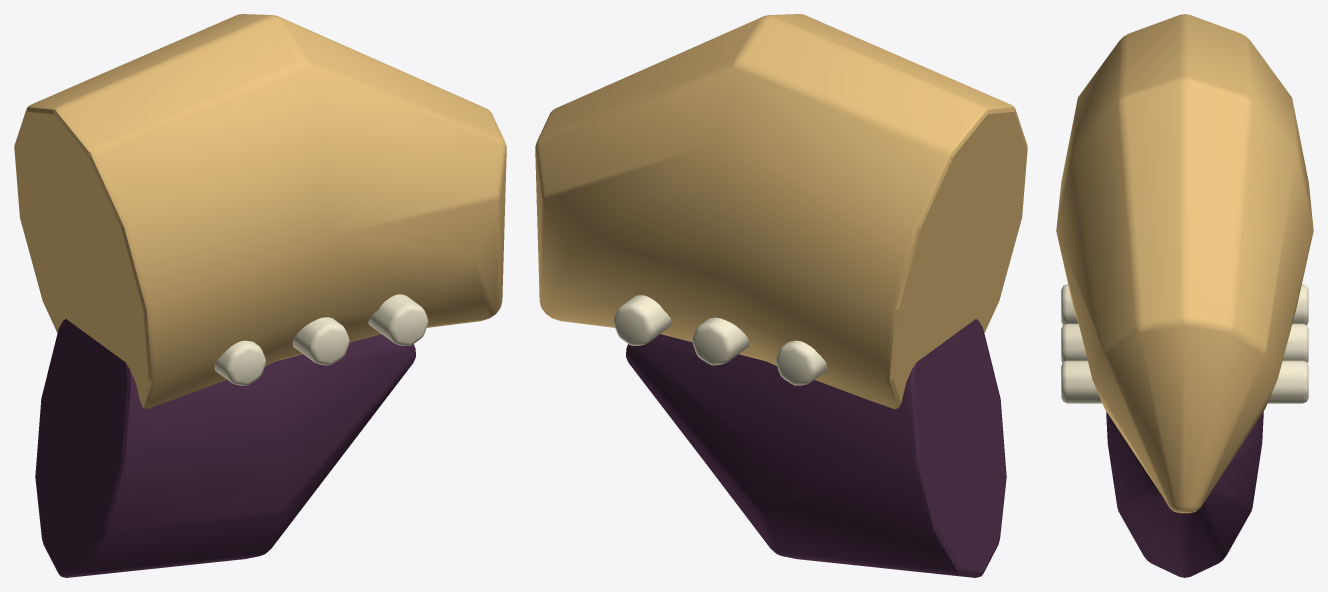
The model's file is beak_crusher.glb.
The picture shows the model from 3 angles, left to right: view 1: azimuth 30°, elevation 25°; view 2: azimuth 150°, elevation 25°; view 3: azimuth 270°, elevation 25°; orthographic projection. The views are drawn at different scales.
Parts seen in each view (by area): view 1: beak_crusher; view 2: beak_crusher; view 3: beak_crusher.
Boxes of the visible parts, x1,y1,x2,y2 form: beak_crusher: (14,14,506,577); beak_crusher: (535,14,1027,577); beak_crusher: (1056,14,1313,577).
Size of the model in its own units: 0.96 by 1.1 by 0.5.
